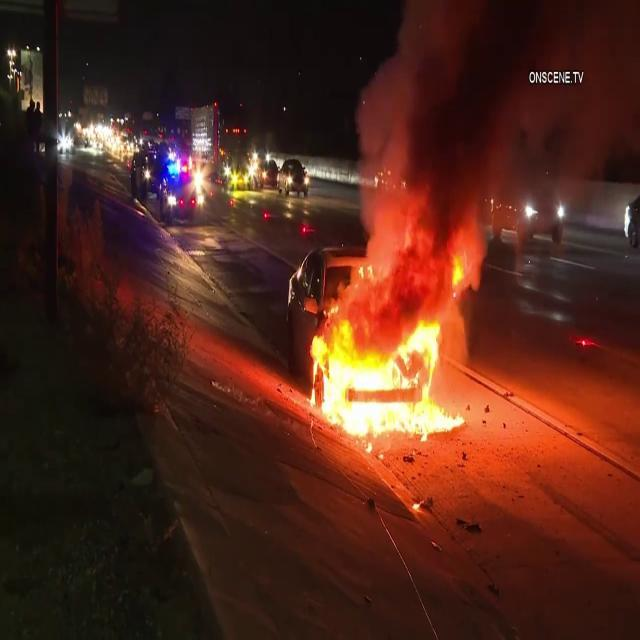Fire: (306, 302, 468, 451)
Smoke: (348, 1, 640, 270)
